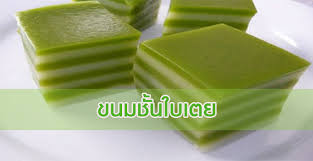kanomchan: (135, 19, 310, 154), (12, 1, 145, 108)
